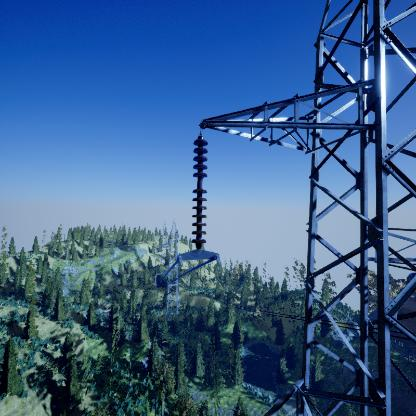insulator: (190, 137, 208, 247)
